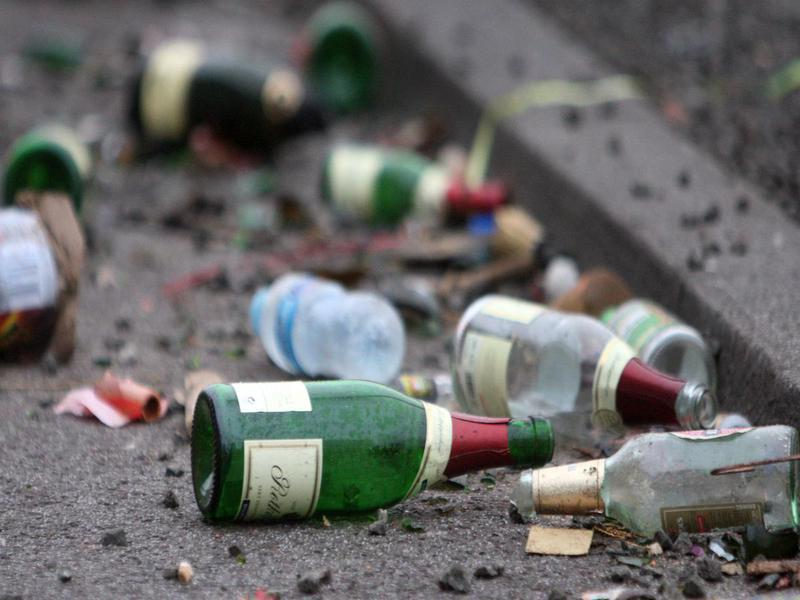bottle: (172, 373, 557, 523), (443, 295, 718, 430), (517, 423, 800, 540), (243, 272, 413, 384)
